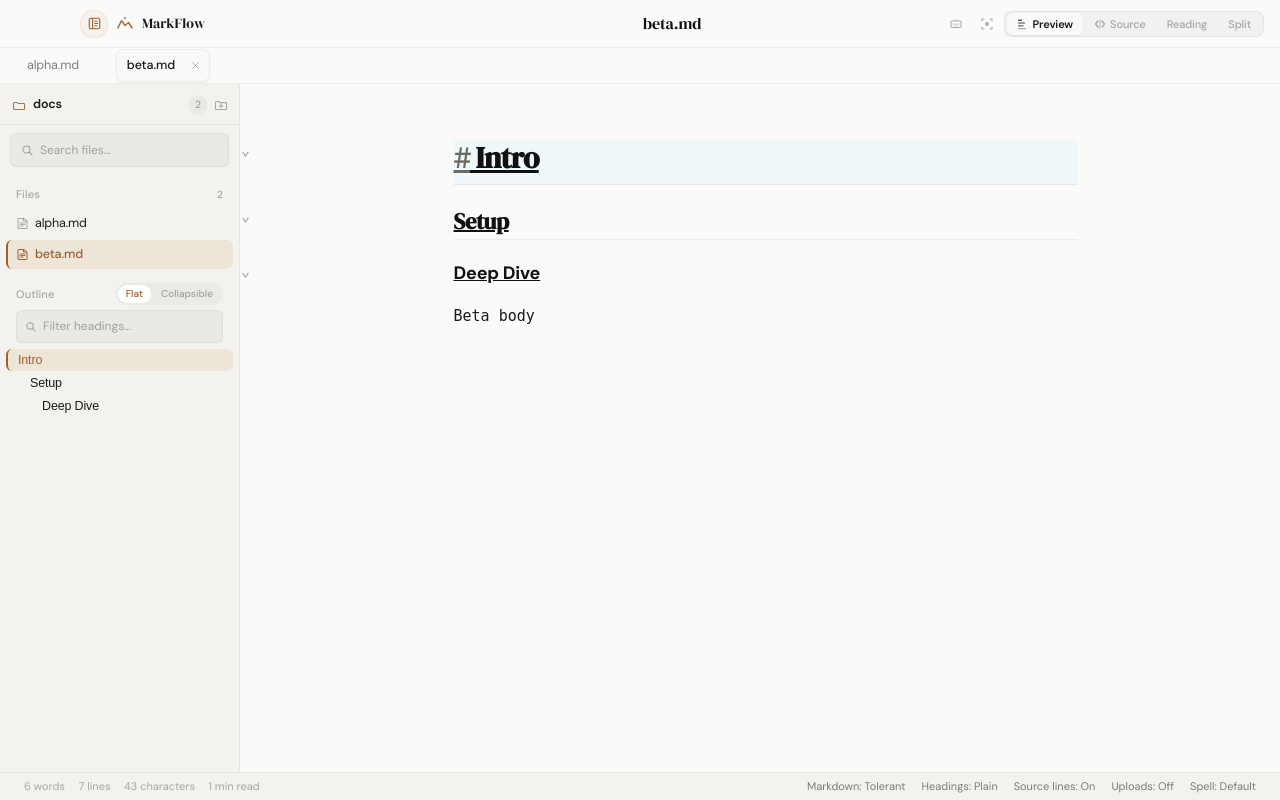
Test: App desktop integration › does not leak collapsed sidebar outline branches across documents that reuse the same anchors
This screenshot has width=1280, height=800.
Expected: the text "alpha.md" in the row of "MarkFlow" is shown, x1=643 y1=10 x2=701 y2=37
Expected: the button "Setup" is shown, x1=6 y1=372 x2=233 y2=394
Click the tab "alpha.md" at (52, 66), box x1=17 y1=50 x2=87 y2=81
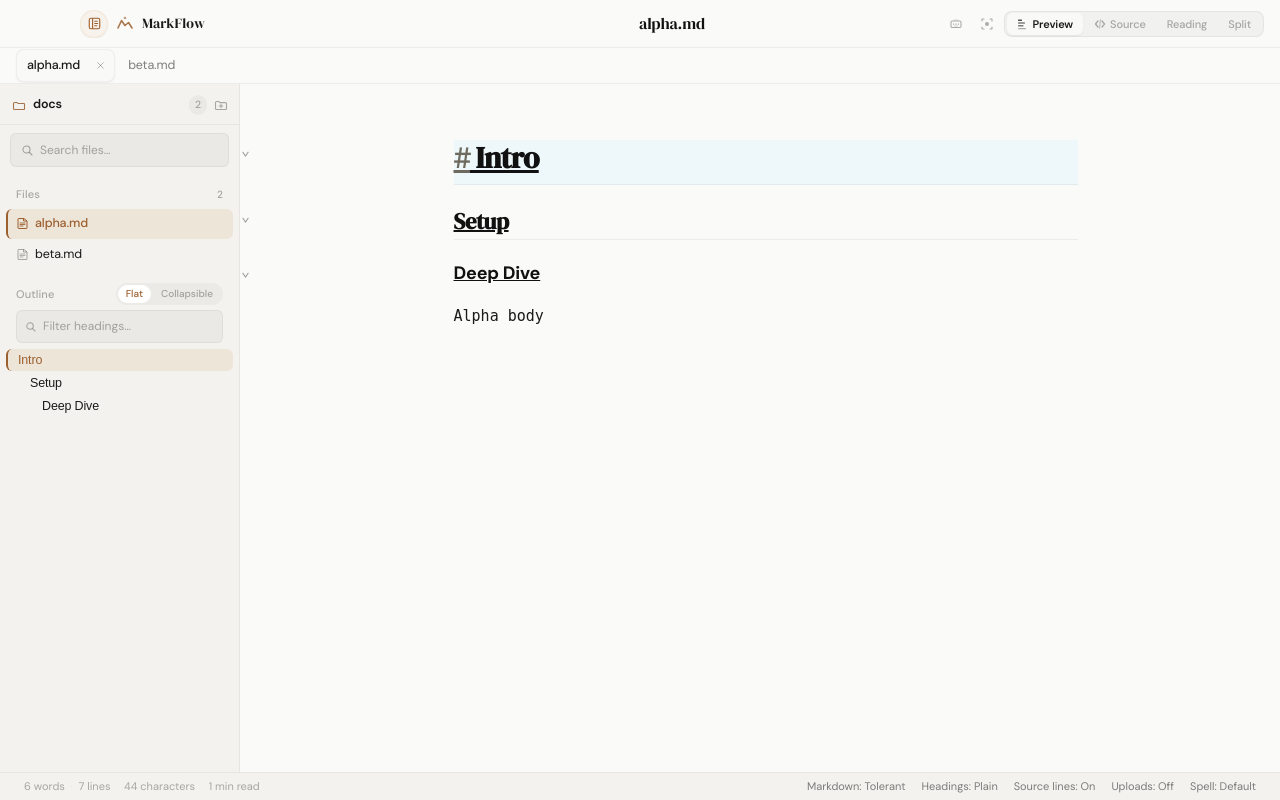
Expected: the button "Setup" is shown, x1=6 y1=372 x2=233 y2=394
Now the tab "alpha.md" is selected, box x1=17 y1=50 x2=88 y2=81
Click the button with aria-label "Collapsible outline mode" at (187, 294), box x1=153 y1=285 x2=221 y2=303
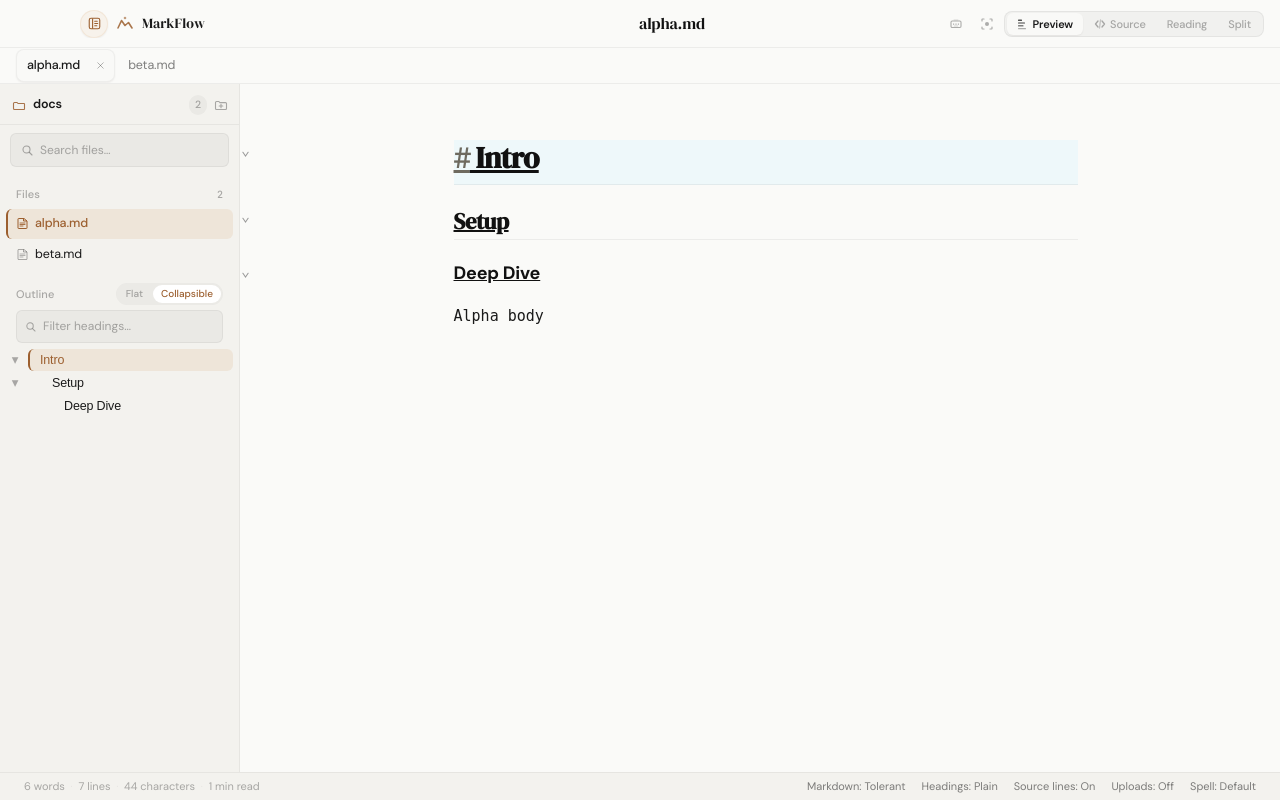
Expected: the element with class "mf-sidebar" is shown, x1=0 y1=84 x2=240 y2=772
Now the button named "Collapse Setup" is shown
Click the button named "Collapse Setup" at (15, 383), box x1=6 y1=372 x2=24 y2=394
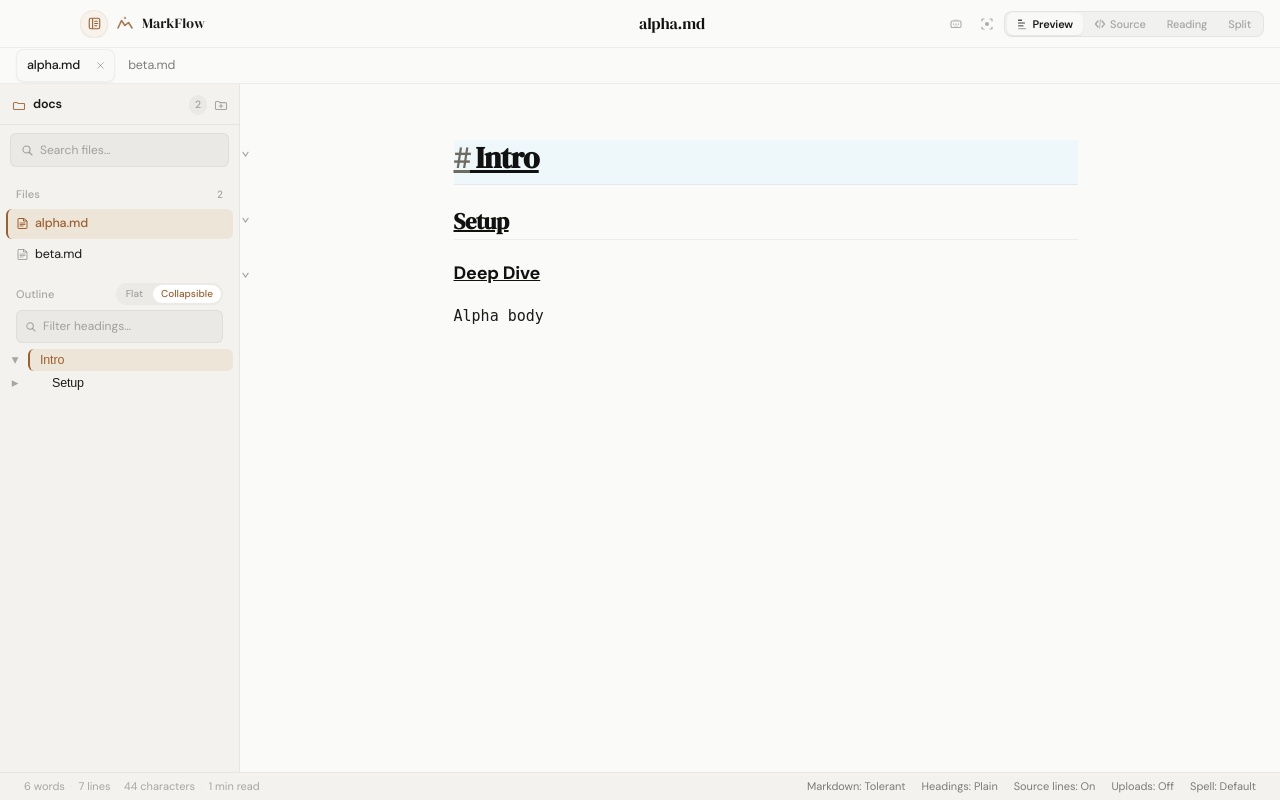
Expected: the element with class "mf-sidebar" is shown, x1=0 y1=84 x2=240 y2=772
Click the tab "beta.md" at (151, 66), box x1=118 y1=50 x2=183 y2=81
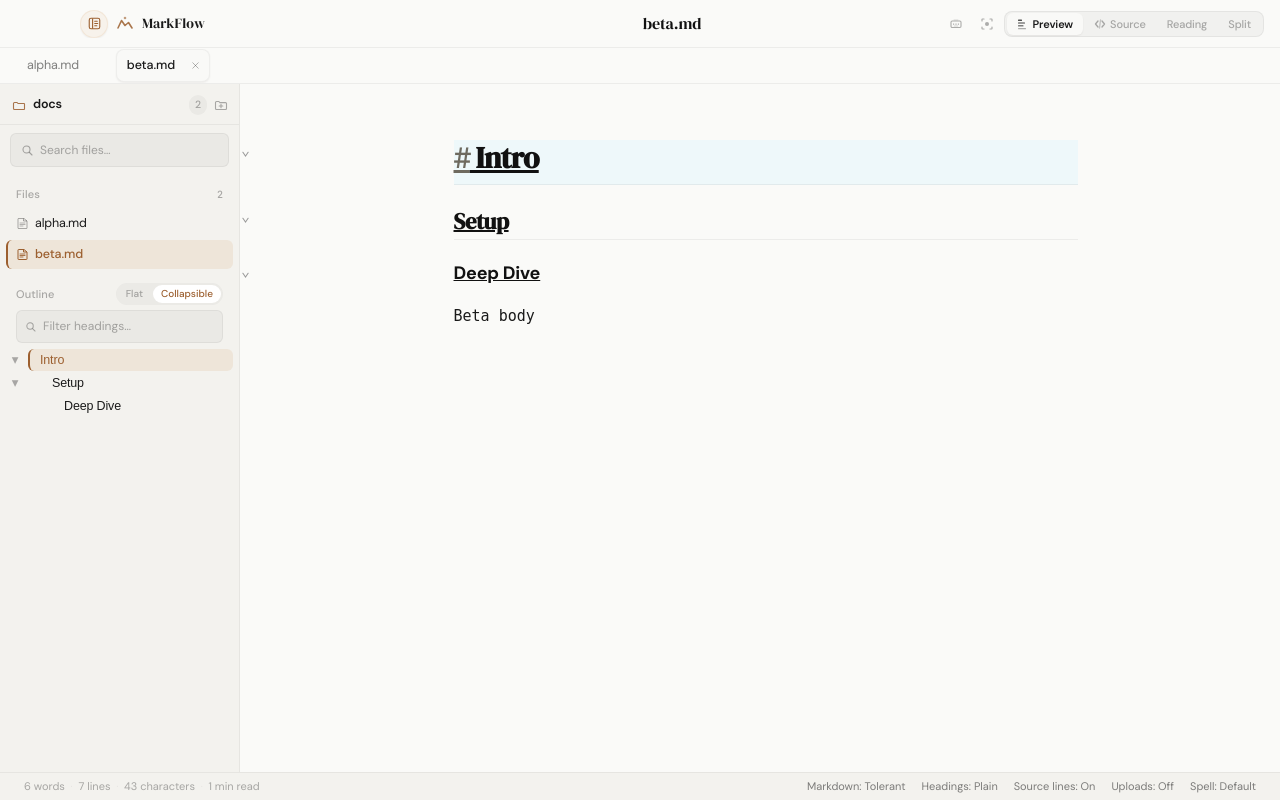
Expected: the element with class "mf-sidebar" is shown, x1=0 y1=84 x2=240 y2=772
Now the button "Deep Dive" is shown, box x1=28 y1=395 x2=233 y2=417
